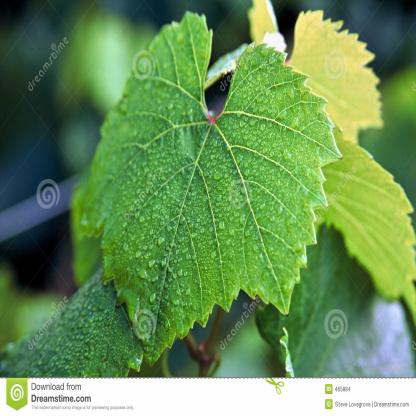grape leaf: (84, 16, 332, 366)
